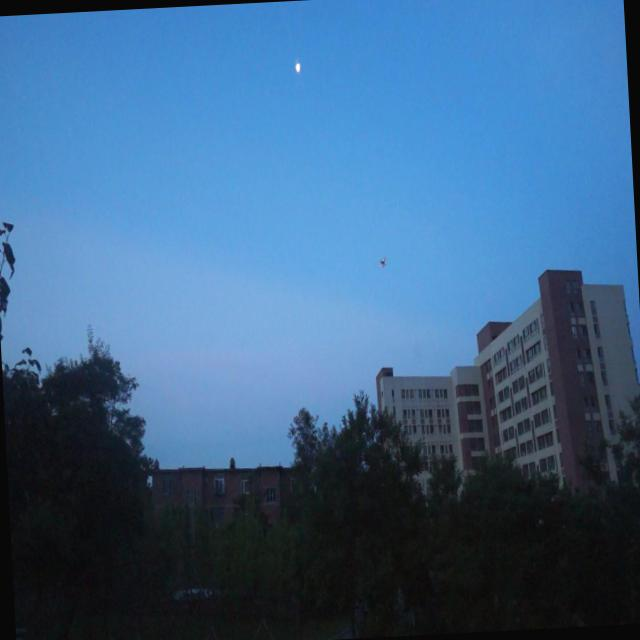drone: (376, 253, 389, 270)
